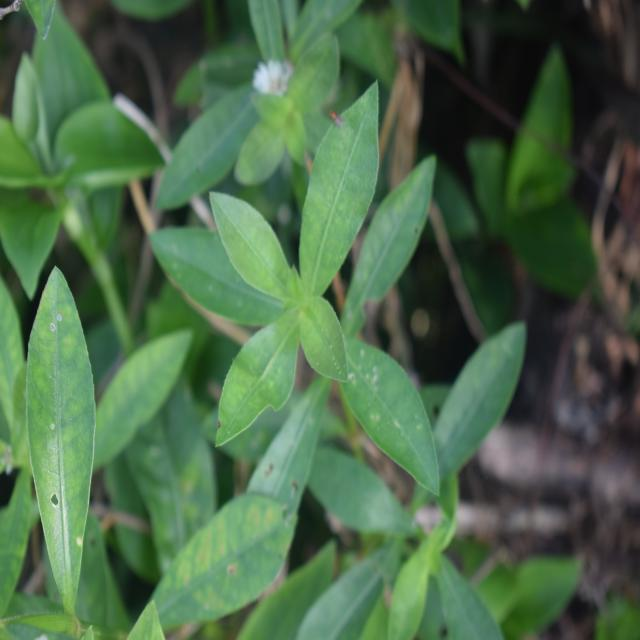Alligatorweed: (165, 104, 457, 514)
